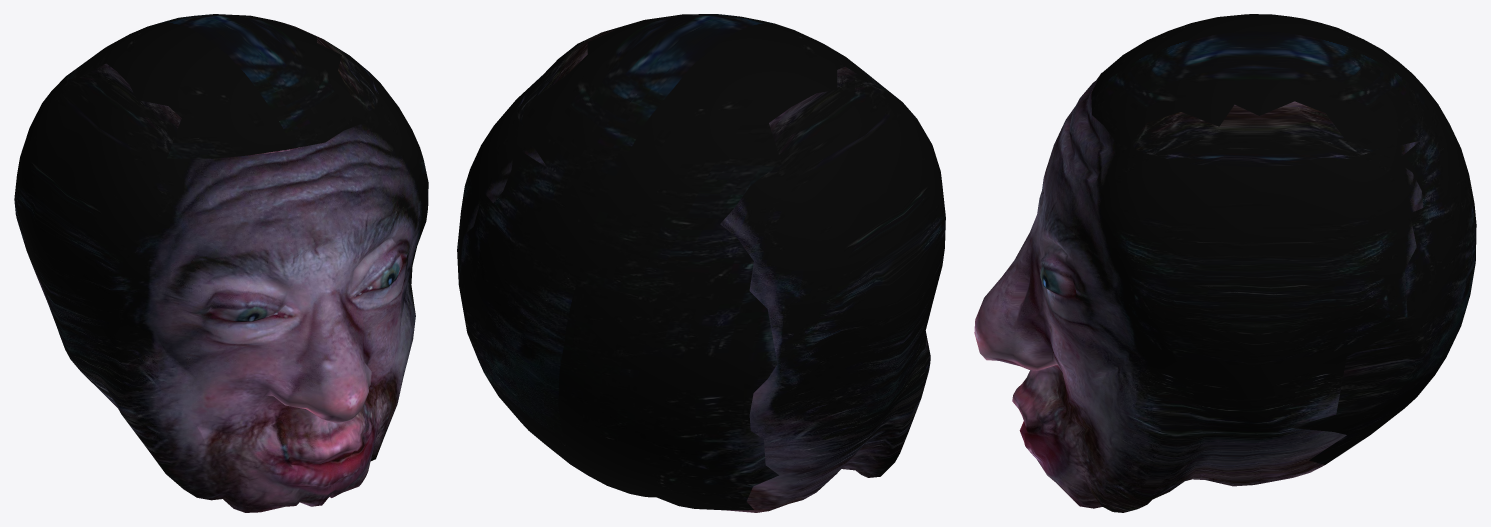
The model's file is sam.glb.
3 renders of one model, left to right at view 1: azimuth 30°, elevation 25°; view 2: azimuth 150°, elevation 25°; view 3: azimuth 270°, elevation 25°, orthographic. The views are drawn at different scales.
Parts seen in each view (by area): view 1: mesh_0; view 2: mesh_0; view 3: mesh_0.
Boxes of the visible parts, left/top/right/bottom form: mesh_0: left=14, top=14, right=428, bottom=512; mesh_0: left=457, top=14, right=945, bottom=512; mesh_0: left=974, top=14, right=1476, bottom=512.
Bounding box in the file's own units: 2.43 × 2.68 × 2.77.
Materials: 1 (1 with a texture image).
